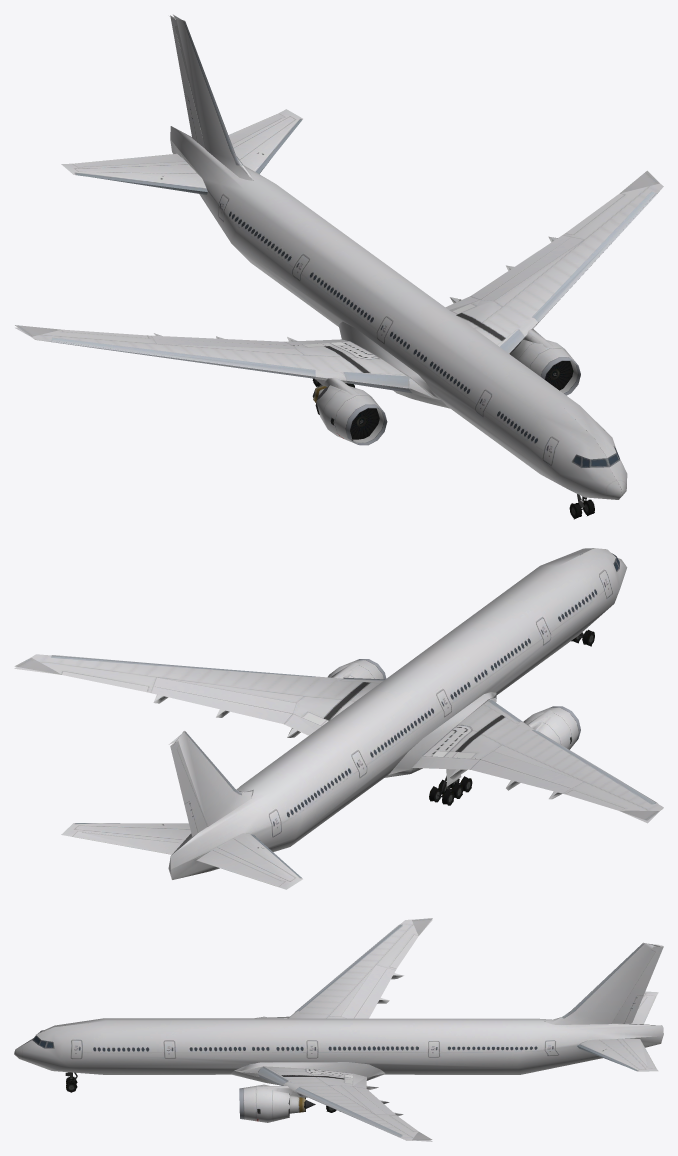
The picture shows the model from 3 angles, top to bottom: view 1: azimuth 30°, elevation 25°; view 2: azimuth 150°, elevation 25°; view 3: azimuth 270°, elevation 25°; orthographic projection. The views are drawn at different scales.
Parts seen in each view (by area): view 1: Object_4; view 2: Object_4; view 3: Object_4.
Boxes of the visible parts, left/top/right/bottom form: Object_4: left=15, top=14, right=663, bottom=519; Object_4: left=14, top=548, right=663, bottom=889; Object_4: left=14, top=918, right=663, bottom=1141.
Bounding box in the file's own units: 59.75 × 18.49 × 73.85.
Materials: 1 (1 with a texture image).
